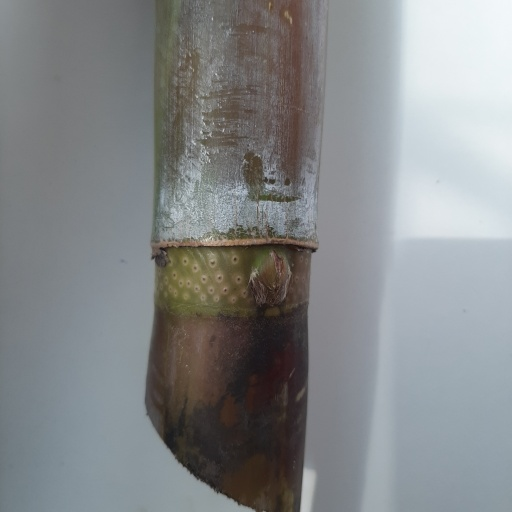Bud: (257, 249, 290, 301)
